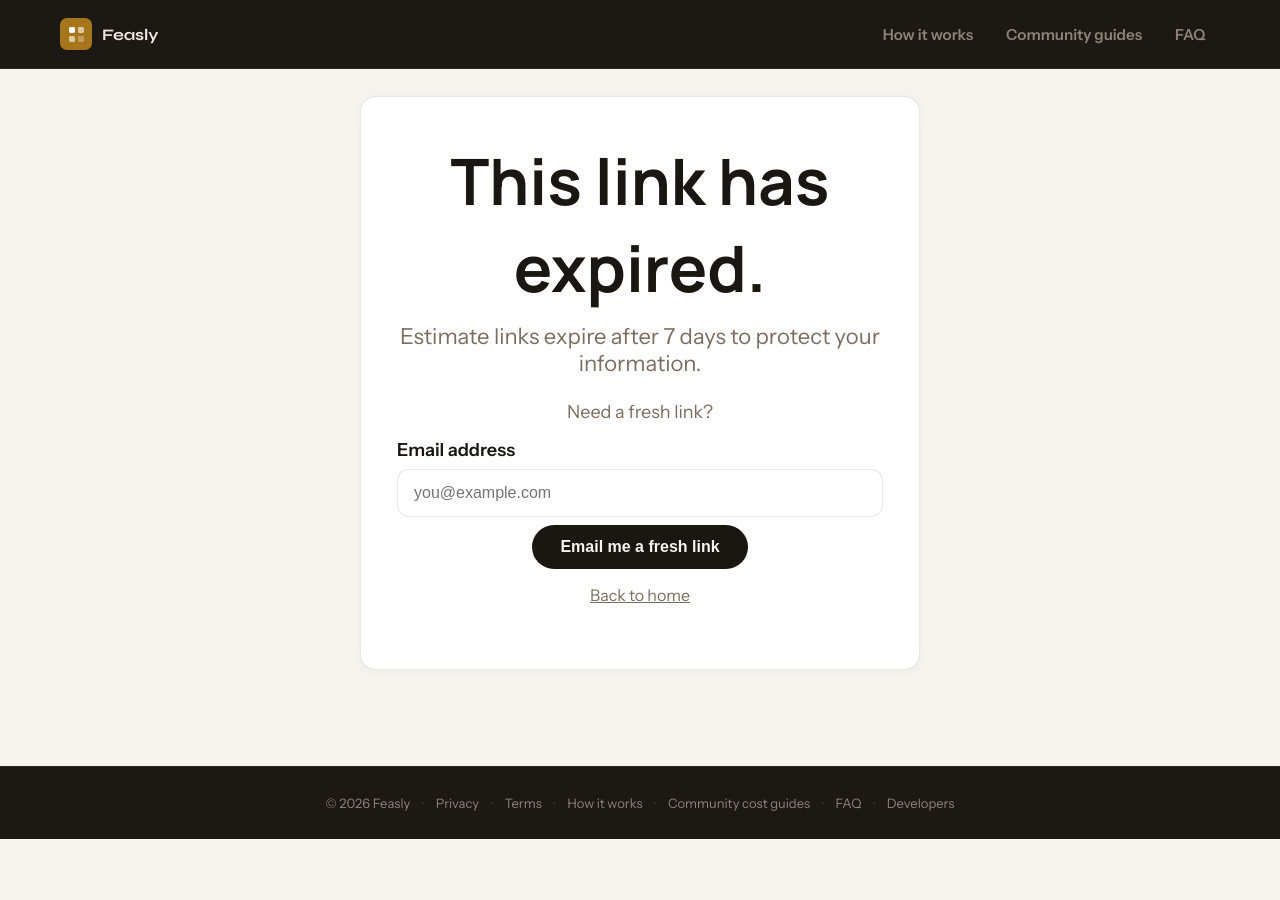
Test case: MagicLinkPageComponent › resend posts the email and shows the sent confirmation
Type "qa@example.com" into the field labelled "Email address" at (640, 493), box [397,469,883,517]
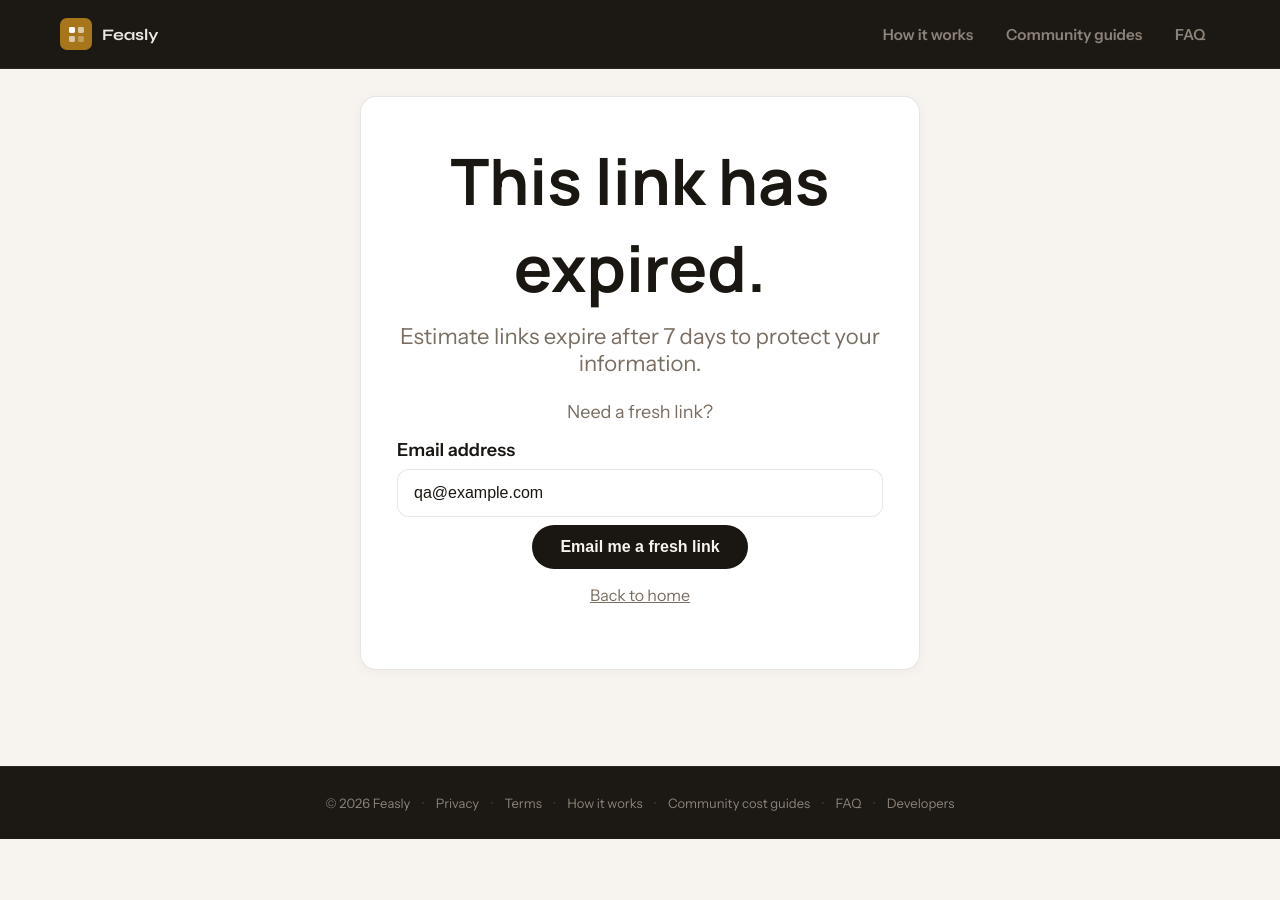
Submit the form, box [397,439,883,569]
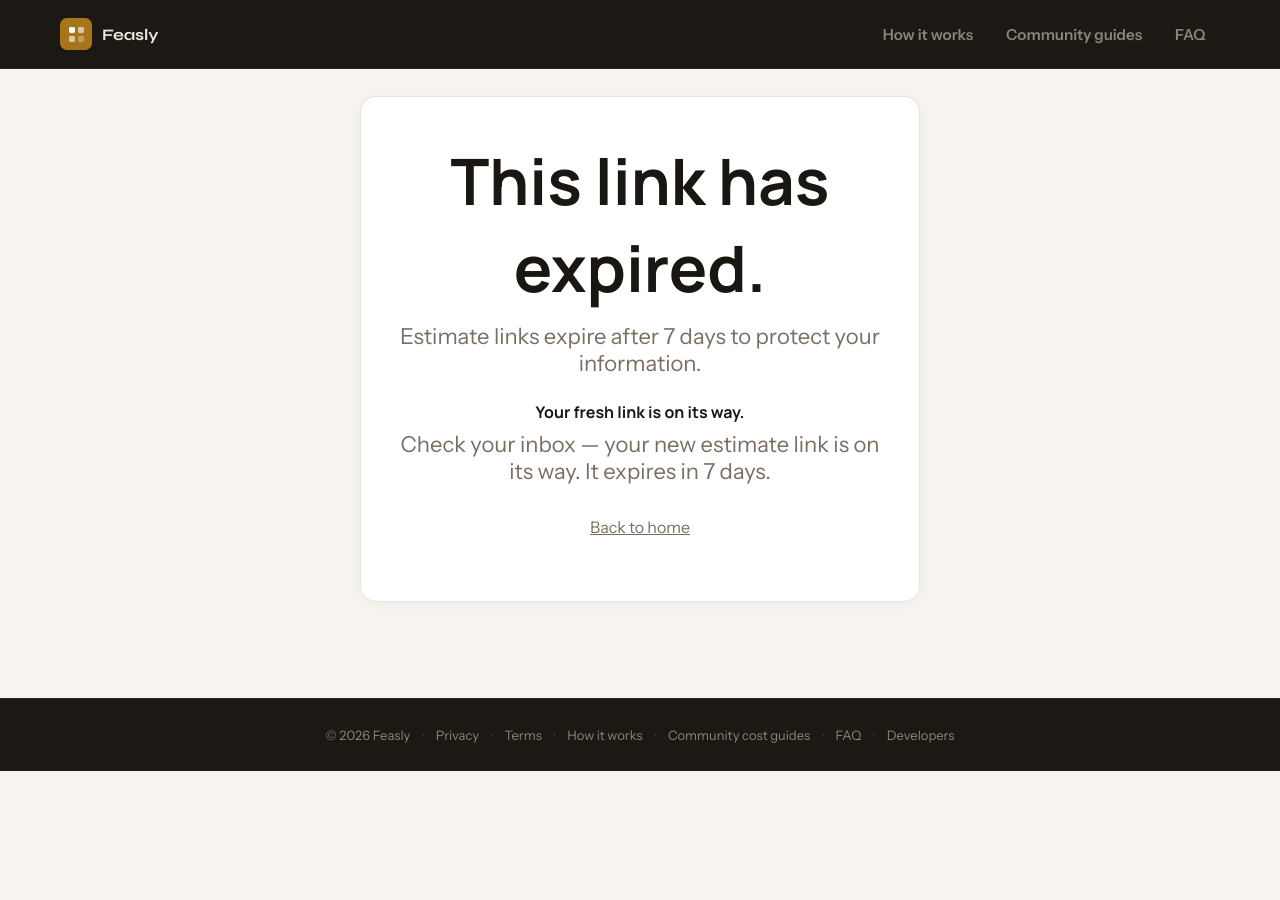
Expected: the text "on its way" is shown, [536,401,744,423]
